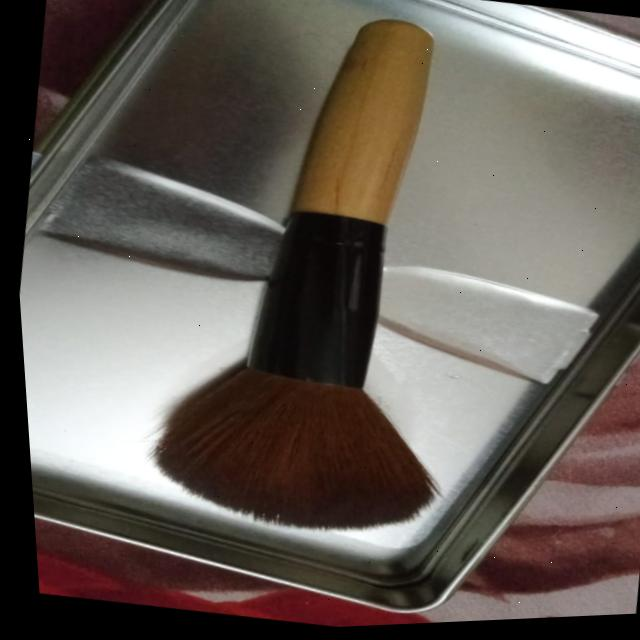brush: (87, 0, 563, 576)
